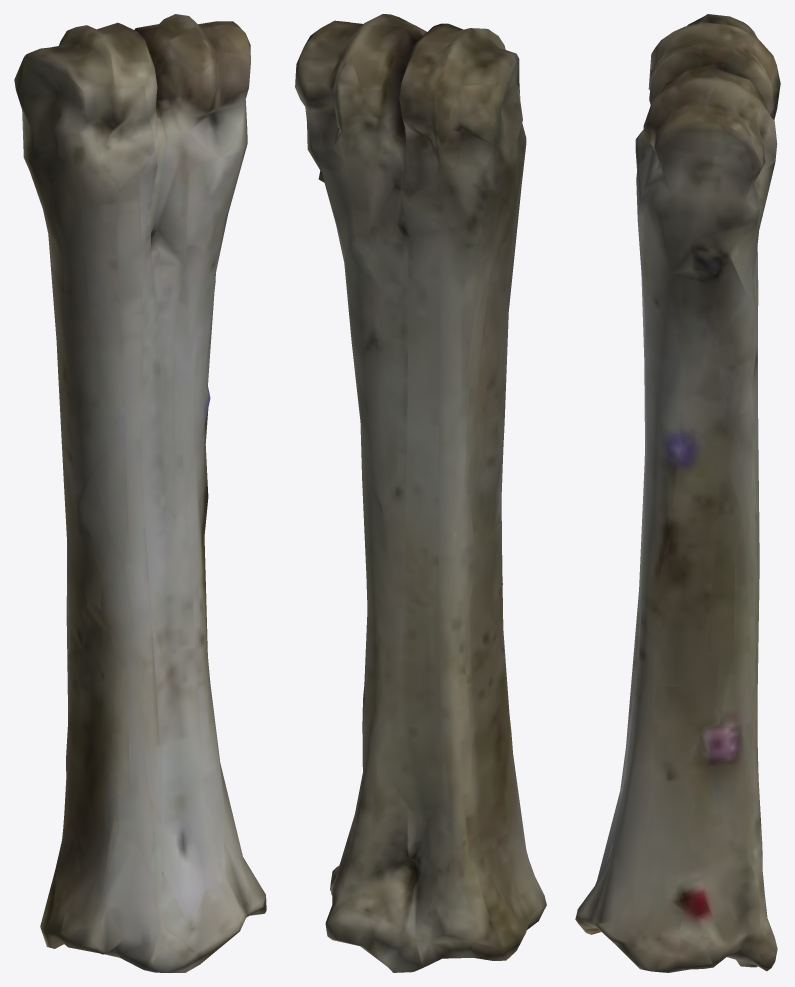
The model's file is legbone.glb.
3 views of the same model, side by side, from view 1: azimuth 30°, elevation 25°; view 2: azimuth 150°, elevation 25°; view 3: azimuth 270°, elevation 25° (orthographic).
Parts seen in each view (by area): view 1: Object_4; view 2: Object_4; view 3: Object_4.
Boxes of the visible parts, bbox=[...] form: Object_4: bbox=[14, 14, 266, 972]; Object_4: bbox=[295, 14, 546, 972]; Object_4: bbox=[575, 14, 780, 972].
Bounding box in the file's own units: 10.42 × 45.29 × 9.15.
Materials: 1 (1 with a texture image).
